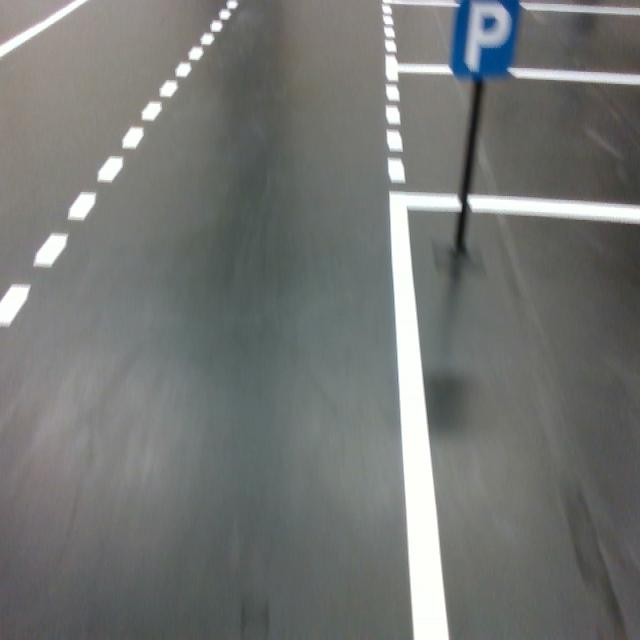parking-sign: (450, 0, 520, 78)
